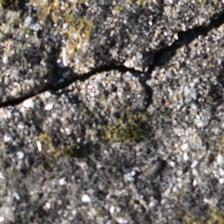Crack: (2, 9, 219, 112)
